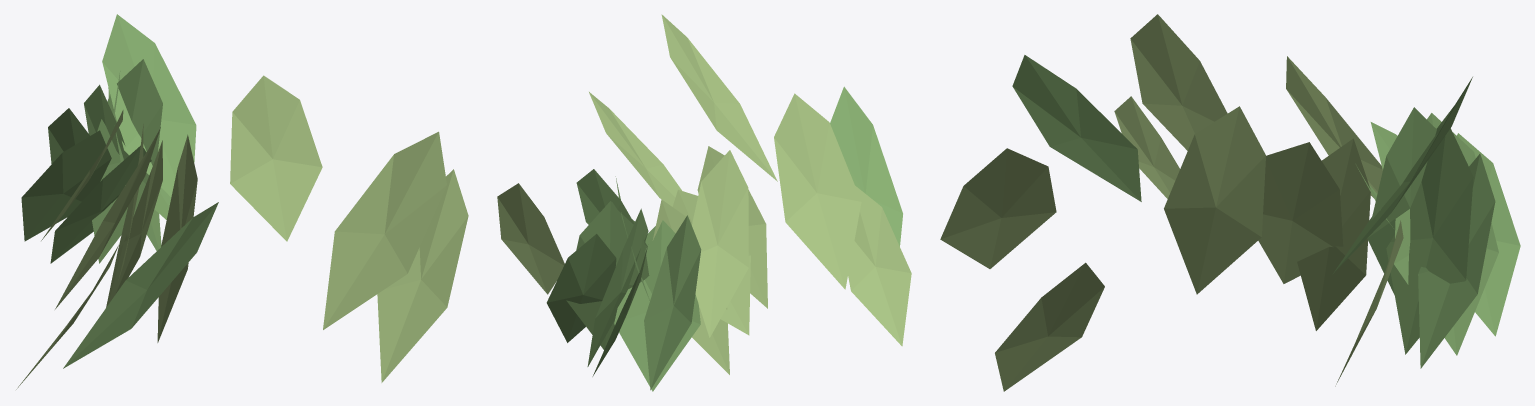
The model's file is herb_patch_a.glb.
3 views of the same model, side by side, from view 1: azimuth 30°, elevation 25°; view 2: azimuth 150°, elevation 25°; view 3: azimuth 270°, elevation 25° (orthographic). The views are drawn at different scales.
Parts seen in each view (by area): view 1: herb_leaf_17, herb_leaf_9, herb_leaf_3, herb_leaf_2, herb_leaf_12, herb_leaf_8, herb_leaf_14, herb_leaf_0, herb_leaf_11, herb_leaf_5, herb_leaf_13, herb_leaf_10 (+5 smaller); view 2: herb_leaf_13, herb_leaf_1, herb_leaf_7, herb_leaf_8, herb_leaf_17, herb_leaf_12, herb_leaf_9, herb_leaf_16, herb_leaf_0, herb_leaf_4, herb_leaf_3, herb_leaf_6 (+5 smaller); view 3: herb_leaf_11, herb_leaf_4, herb_leaf_17, herb_leaf_5, herb_leaf_12, herb_leaf_13, herb_leaf_15, herb_leaf_3, herb_leaf_16, herb_leaf_14, herb_leaf_10, herb_leaf_1 (+5 smaller).
Part boxes in pixels (bbox=[...]): herb_leaf_17: bbox=[323, 131, 446, 329]; herb_leaf_9: bbox=[230, 75, 322, 241]; herb_leaf_3: bbox=[377, 169, 468, 382]; herb_leaf_2: bbox=[102, 14, 196, 197]; herb_leaf_12: bbox=[63, 202, 218, 368]; herb_leaf_8: bbox=[21, 130, 111, 241]; herb_leaf_14: bbox=[92, 59, 162, 263]; herb_leaf_0: bbox=[50, 146, 151, 263]; herb_leaf_11: bbox=[157, 134, 197, 342]; herb_leaf_5: bbox=[108, 140, 162, 303]; herb_leaf_13: bbox=[55, 127, 160, 309]; herb_leaf_10: bbox=[48, 108, 89, 164]; herb_leaf_13: bbox=[774, 93, 861, 289]; herb_leaf_1: bbox=[692, 150, 748, 337]; herb_leaf_7: bbox=[848, 185, 911, 346]; herb_leaf_8: bbox=[644, 215, 701, 390]; herb_leaf_17: bbox=[661, 14, 777, 181]; herb_leaf_12: bbox=[830, 86, 902, 246]; herb_leaf_9: bbox=[497, 183, 564, 294]; herb_leaf_16: bbox=[546, 234, 616, 342]; herb_leaf_0: bbox=[614, 220, 700, 391]; herb_leaf_4: bbox=[566, 201, 649, 349]; herb_leaf_3: bbox=[589, 92, 681, 206]; herb_leaf_6: bbox=[587, 208, 648, 366]; herb_leaf_11: bbox=[1164, 106, 1265, 294]; herb_leaf_4: bbox=[1386, 123, 1473, 354]; herb_leaf_17: bbox=[940, 148, 1056, 268]; herb_leaf_5: bbox=[1258, 142, 1343, 283]; herb_leaf_12: bbox=[1012, 55, 1141, 201]; herb_leaf_13: bbox=[1130, 14, 1227, 150]; herb_leaf_15: bbox=[1297, 138, 1370, 330]; herb_leaf_3: bbox=[995, 262, 1104, 391]; herb_leaf_16: bbox=[1418, 153, 1495, 368]; herb_leaf_14: bbox=[1367, 107, 1436, 294]; herb_leaf_10: bbox=[1456, 133, 1520, 336]; herb_leaf_1: bbox=[1286, 56, 1382, 197].
Bounding box in the file's own units: 0.4223 × 0.2736 × 0.4572.
